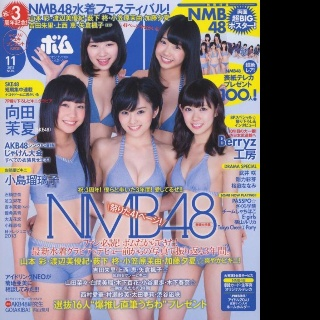without_mask: (221, 42, 226, 48), (210, 44, 215, 48), (215, 35, 219, 40), (202, 45, 206, 48), (206, 37, 210, 40)
